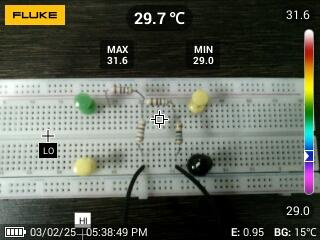resistor: (171, 120, 186, 148), (134, 117, 148, 147), (141, 96, 172, 109), (107, 85, 137, 96)
